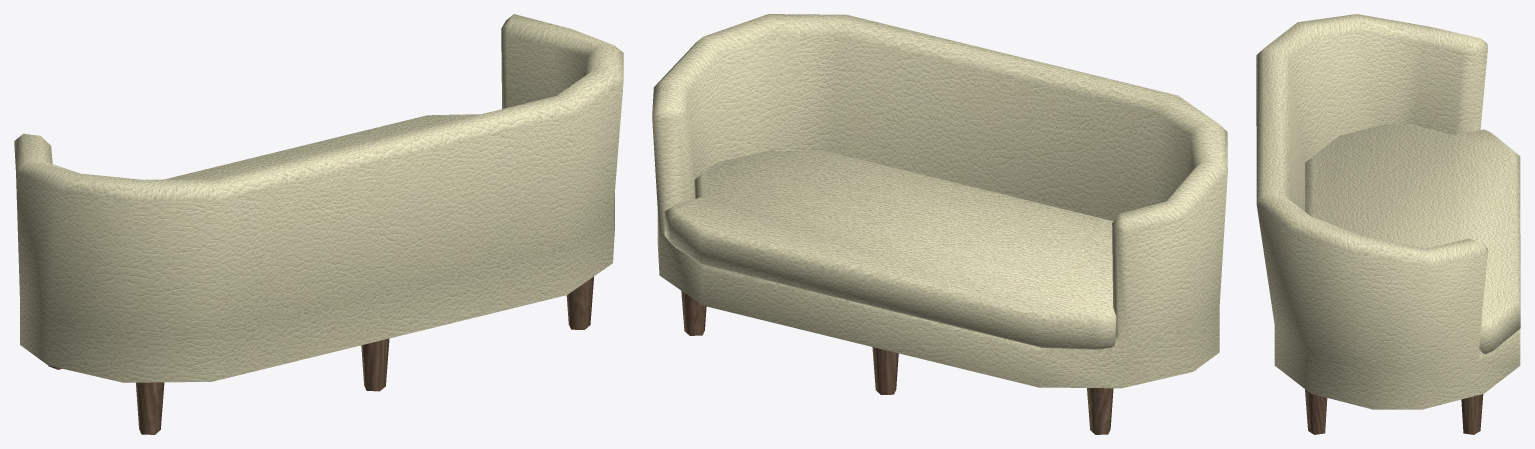
File: Armchair_16-col.glb
3 renders of one model, left to right at view 1: azimuth 30°, elevation 25°; view 2: azimuth 150°, elevation 25°; view 3: azimuth 270°, elevation 25°, orthographic. The views are drawn at different scales.
Parts seen in each view (by area): view 1: Armchair_16-col; view 2: Armchair_16-col; view 3: Armchair_16-col.
Boxes of the visible parts, <box> form: Armchair_16-col: <box>14,14,623,434</box>; Armchair_16-col: <box>652,14,1227,434</box>; Armchair_16-col: <box>1256,14,1520,434</box>.
Bounding box in the file's own units: 2.25 × 0.9756 × 1.06.
2 materials, 2 textured.
